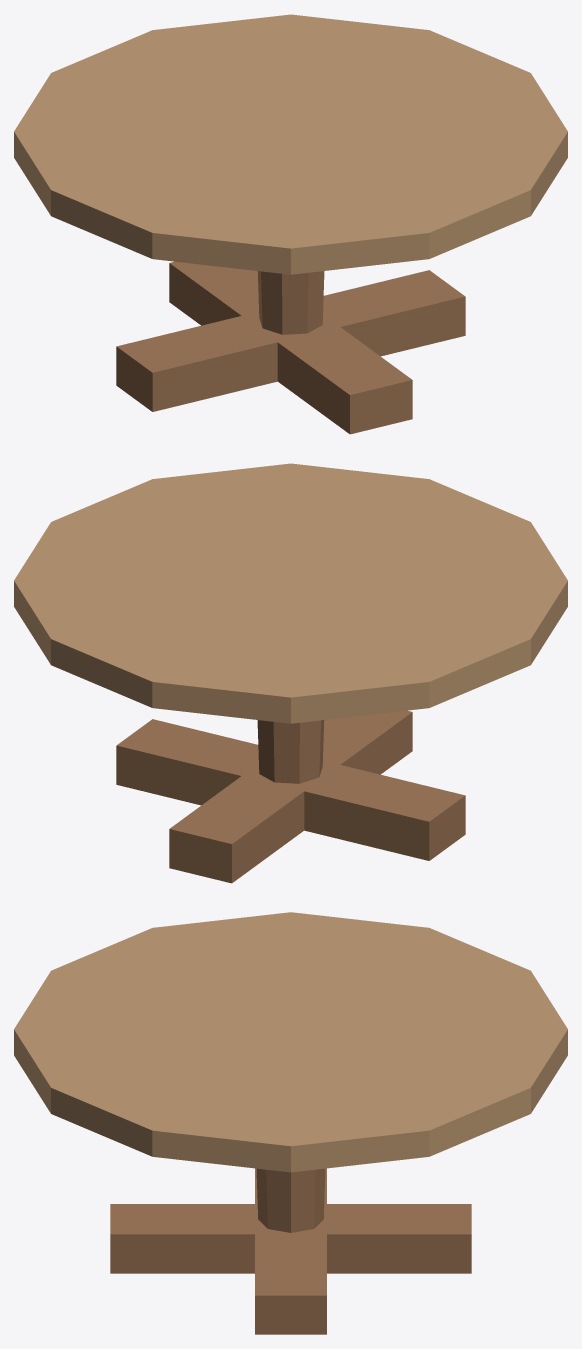
The model's file is tavern_table_round.glb.
The picture shows the model from 3 angles, top to bottom: view 1: azimuth 30°, elevation 25°; view 2: azimuth 150°, elevation 25°; view 3: azimuth 270°, elevation 25°; orthographic projection.
Visible parts, largest first — view 1: tavern_table_round_Mesh; view 2: tavern_table_round_Mesh; view 3: tavern_table_round_Mesh.
Part boxes in pixels (bbox=[...]): tavern_table_round_Mesh: bbox=[14, 14, 567, 434]; tavern_table_round_Mesh: bbox=[14, 463, 567, 883]; tavern_table_round_Mesh: bbox=[14, 912, 567, 1334].
Size of the model in its own units: 2.3 by 1.08 by 2.3.
